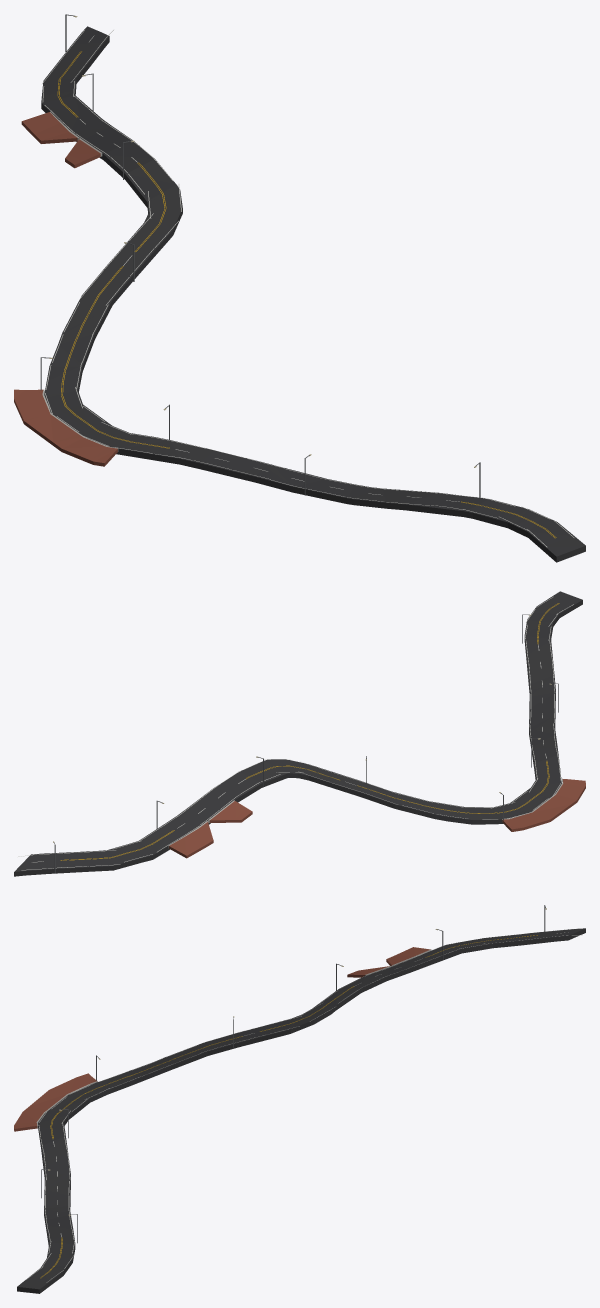
3 views of the same model, one above another, from view 1: azimuth 30°, elevation 25°; view 2: azimuth 150°, elevation 25°; view 3: azimuth 330°, elevation 25° (orthographic). The views are drawn at different scales.
Bounding box in the file's own units: 82.24 × 25.39 × 220.
